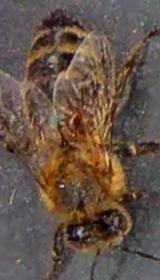varroa_mite: (60, 108, 95, 138)
